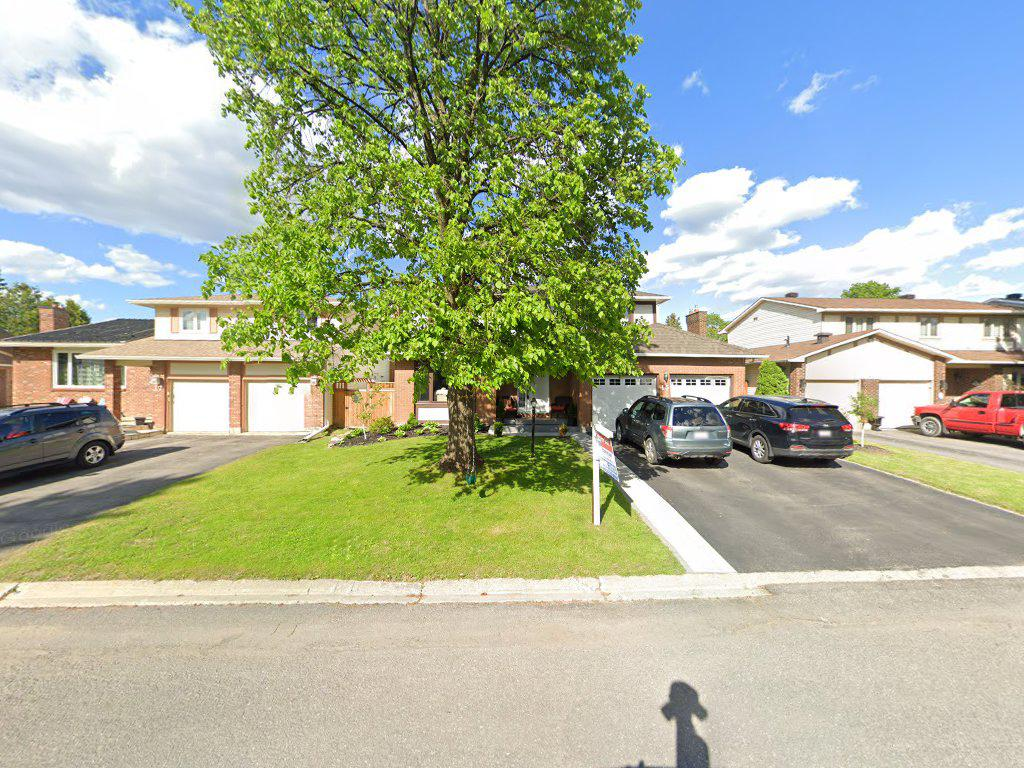trunk: (443, 371, 490, 495)
